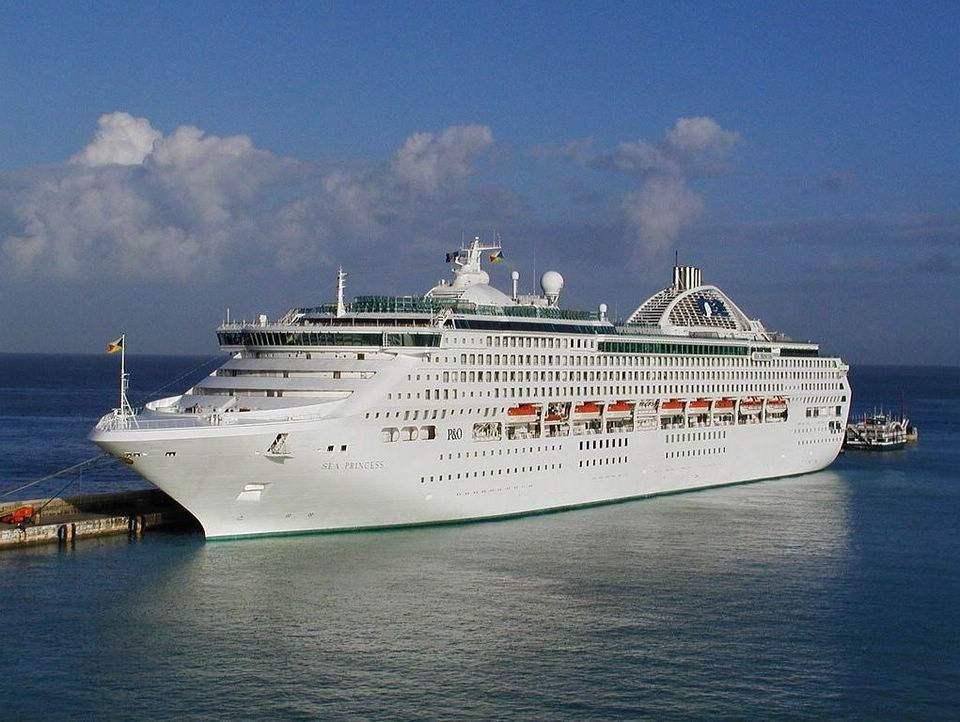youlun: (83, 223, 859, 548)
